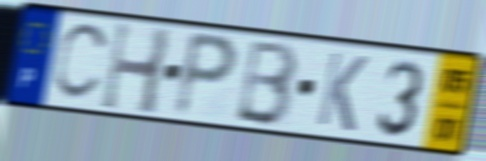3: (375, 57, 426, 140)
B: (232, 38, 301, 130)
C: (50, 22, 113, 105)
H: (97, 18, 176, 119)
K: (313, 48, 371, 135)
P: (170, 28, 241, 122)
